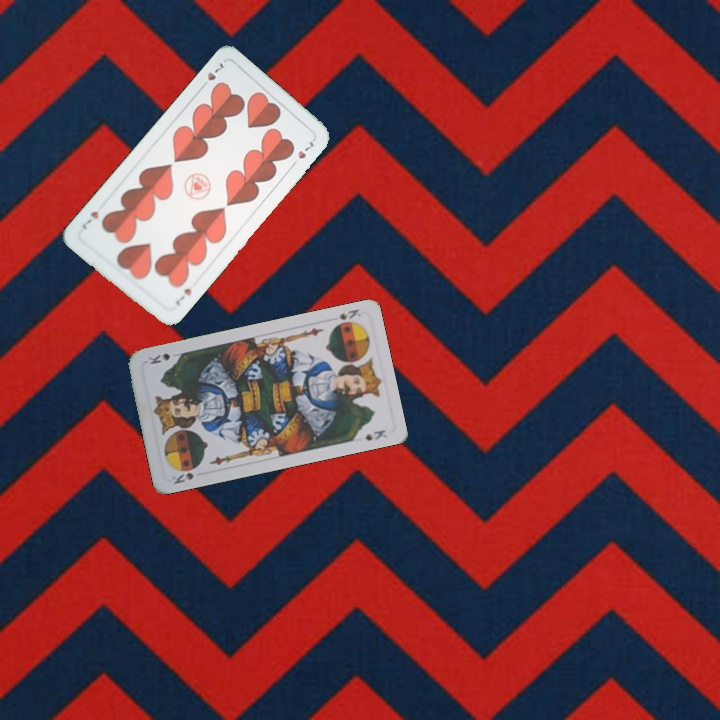H7: (196, 58, 226, 91), (172, 284, 195, 308)
SK: (329, 304, 363, 330), (168, 468, 196, 487)
